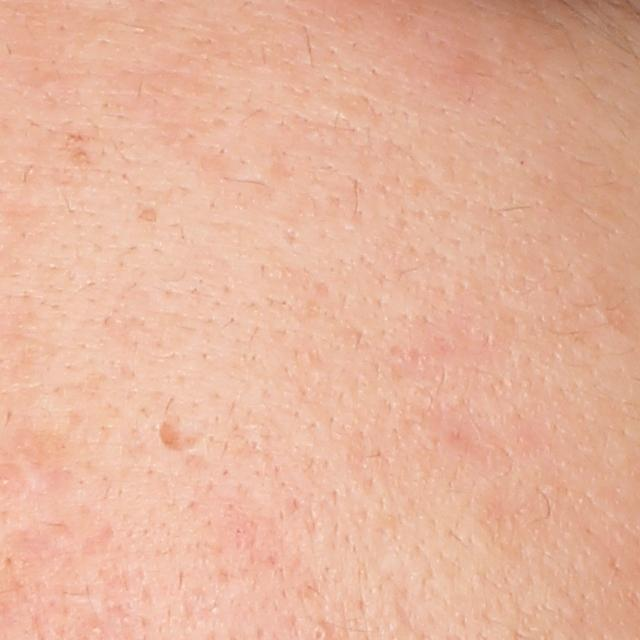atrophic_scar: (158, 404, 214, 454)
